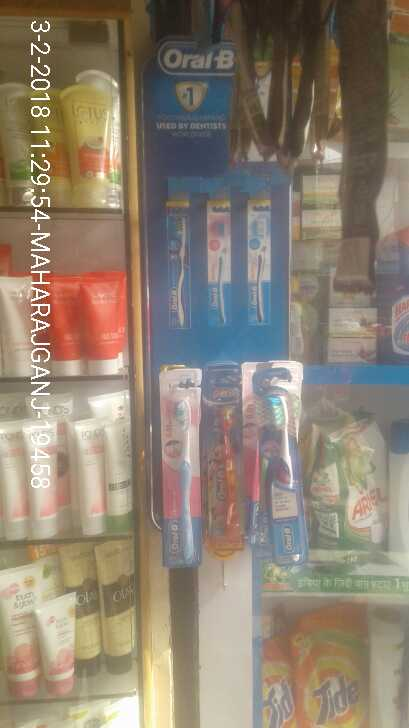oralb: (156, 370, 200, 573), (201, 372, 247, 555), (258, 389, 307, 557)
